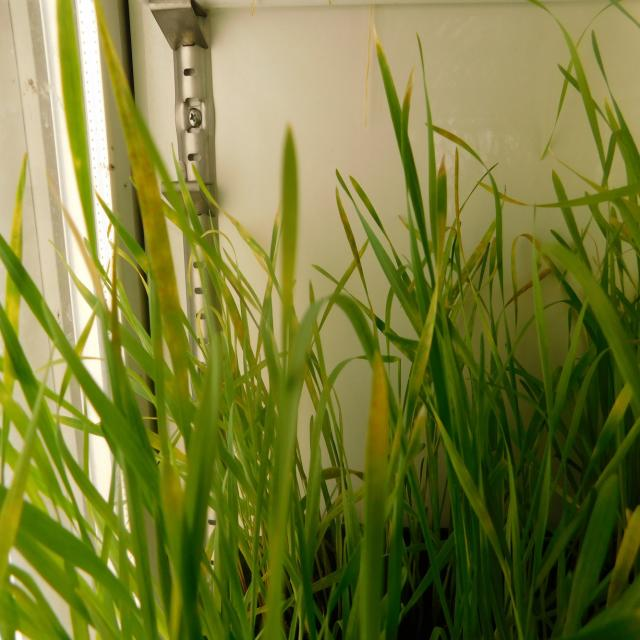wheat-yellowrust: (111, 69, 186, 340), (2, 207, 21, 377), (367, 358, 387, 476), (616, 508, 635, 575)
